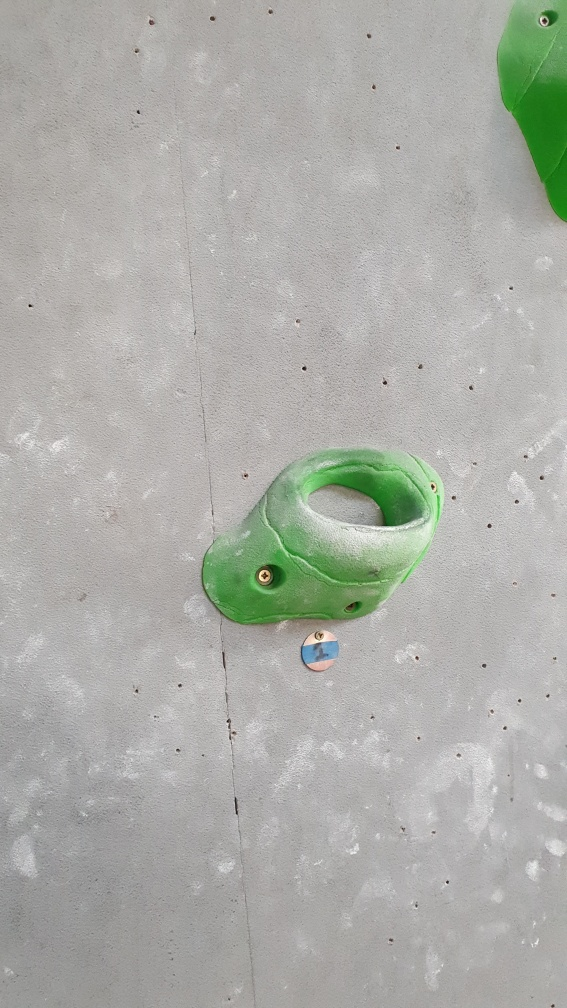Hand Start: (297, 628, 346, 675)
Pocket: (198, 438, 445, 627)
